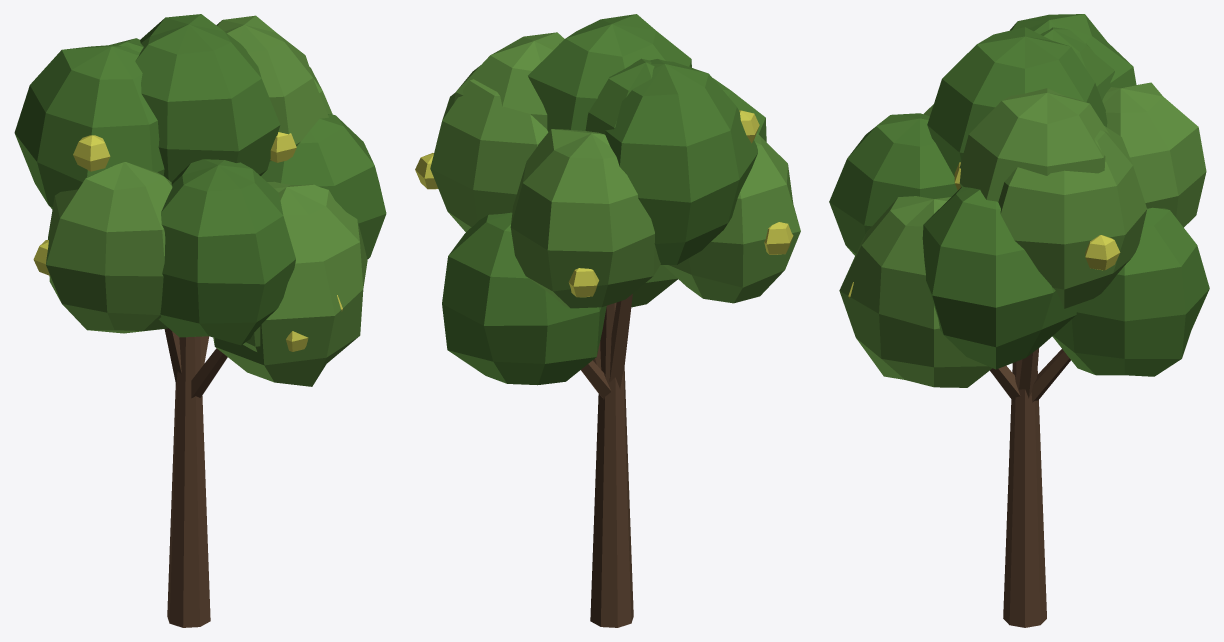
The model's file is tree_pear_medium.glb.
The picture shows the model from 3 angles, left to right: view 1: azimuth 30°, elevation 25°; view 2: azimuth 150°, elevation 25°; view 3: azimuth 270°, elevation 25°; orthographic projection. The views are drawn at different scales.
Visible parts, largest first — view 1: tree_pear_medium; view 2: tree_pear_medium; view 3: tree_pear_medium.
Boxes of the visible parts, x1,y1,x2,y2 form: tree_pear_medium: [14, 14, 386, 627]; tree_pear_medium: [415, 14, 800, 627]; tree_pear_medium: [829, 14, 1209, 627].
Size of the model in its own units: 5.69 by 9.44 by 5.59.
